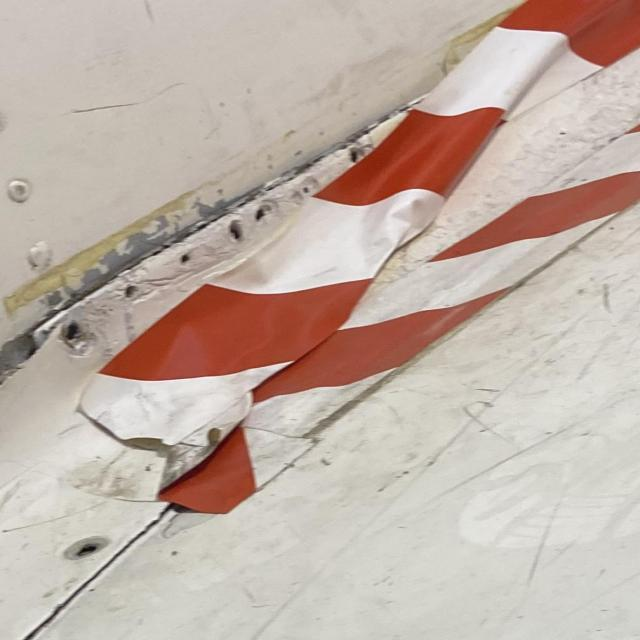Fastener Damage: (55, 531, 108, 561)
Rupture: (0, 314, 68, 428)
